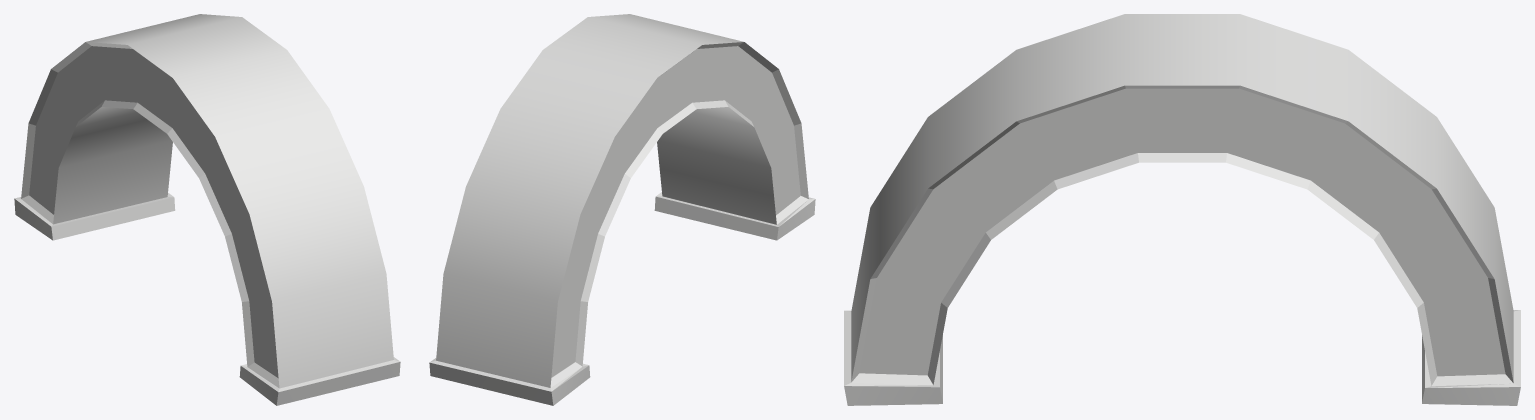
Rendered from Churcharch.FBX.
3 renders of one model, left to right at view 1: azimuth 30°, elevation 25°; view 2: azimuth 150°, elevation 25°; view 3: azimuth 270°, elevation 25°, orthographic. The views are drawn at different scales.
Parts seen in each view (by area): view 1: Cylinder002; view 2: Cylinder002; view 3: Cylinder002.
Part boxes in pixels (x1,y1,x2,y2): Cylinder002: (14, 14, 400, 405); Cylinder002: (429, 14, 815, 405); Cylinder002: (844, 14, 1520, 405).
Bounding box in the file's own units: 26.16 × 50.38 × 97.27.
1 material, 1 textured.
